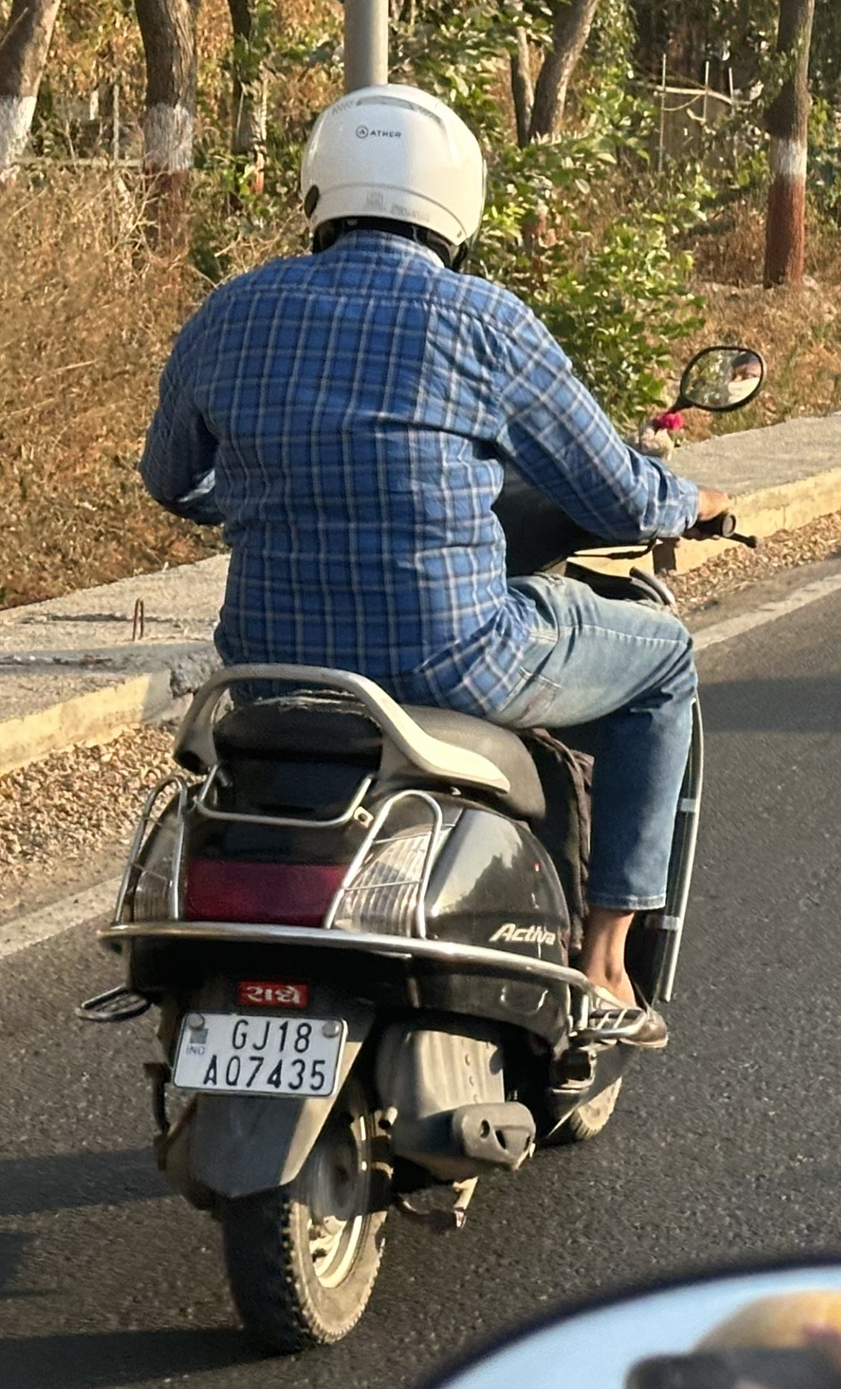BikeWithRider: (69, 65, 779, 1360)
Helmet: (280, 68, 504, 283)
